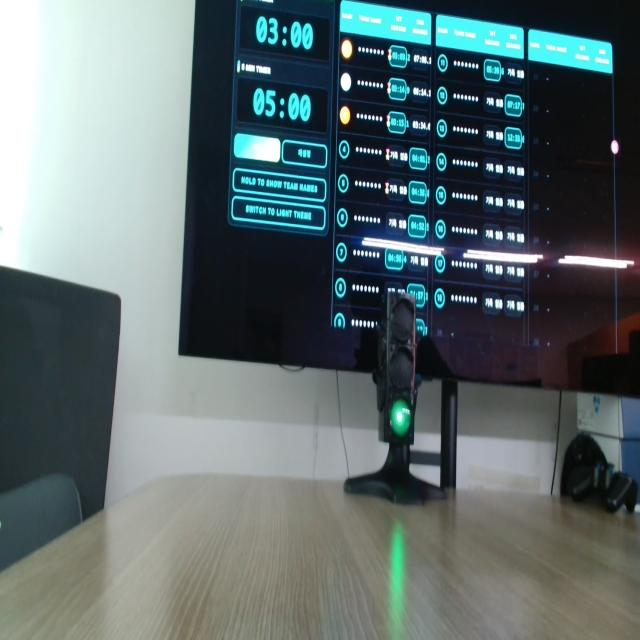green_light: (390, 399, 411, 437)
